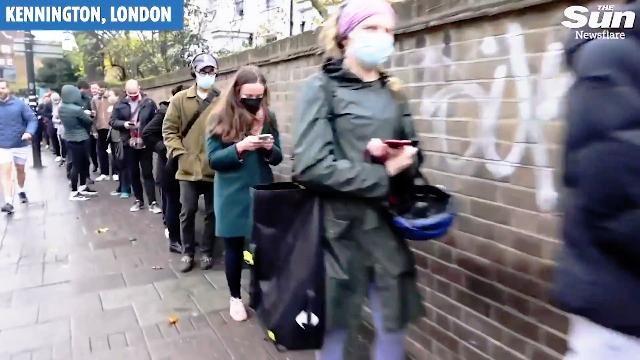berdiri: (292, 0, 446, 360), (138, 52, 232, 283), (208, 72, 280, 330)
